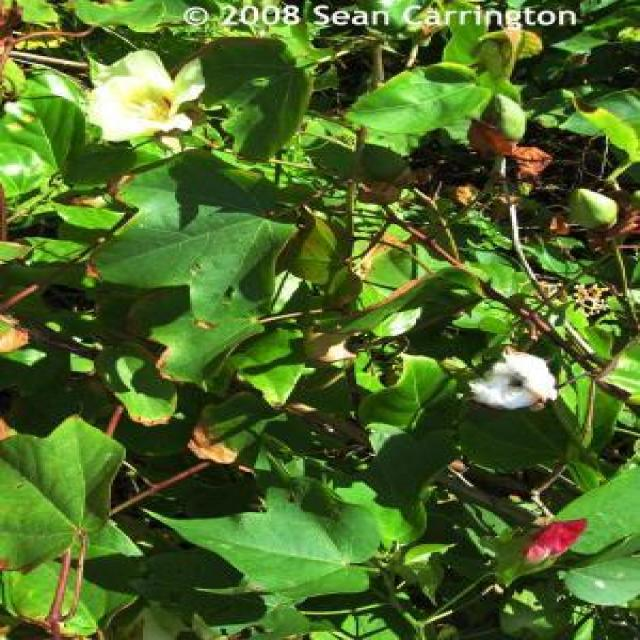Late_blight: (476, 353, 560, 408)
